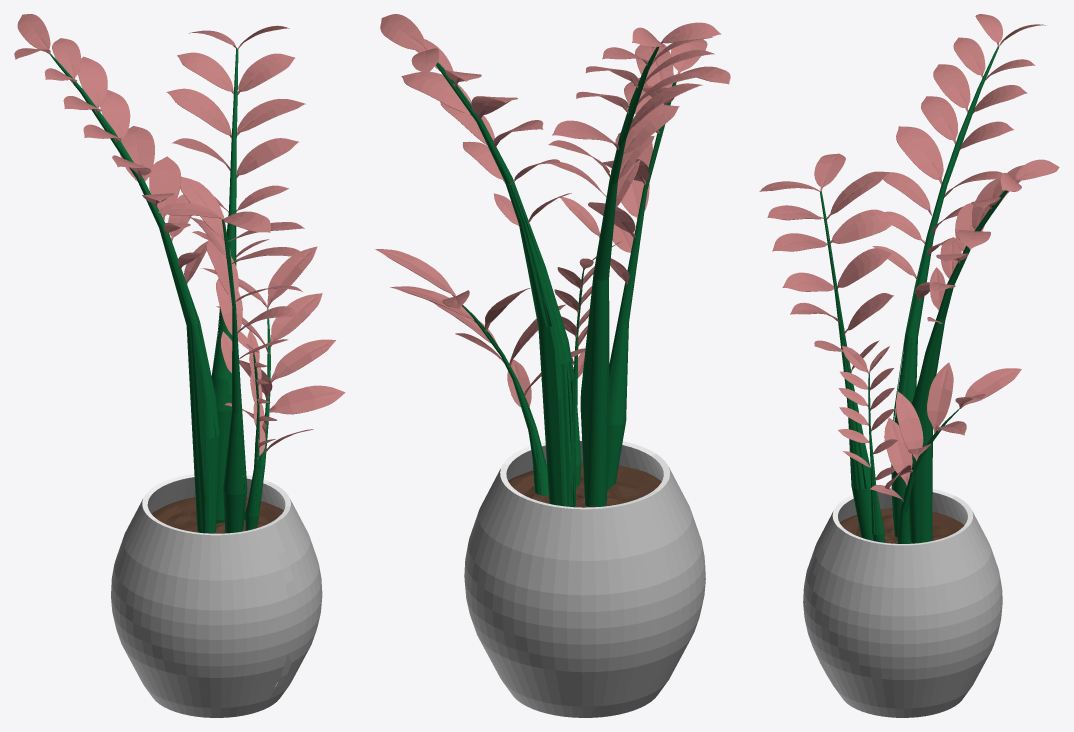
The model's file is vase_1.glb.
The picture shows the model from 3 angles, left to right: view 1: azimuth 30°, elevation 25°; view 2: azimuth 150°, elevation 25°; view 3: azimuth 270°, elevation 25°; orthographic projection. The views are drawn at different scales.
Parts seen in each view (by area): view 1: sh1, small093, small140, Cylinder00, small094, small116, Cylinder01, Cylinder04, default001_Material #36_0, small092, Cylinder03, Object001_Material #35_0 (+1 smaller); view 2: sh1, Cylinder04, small093, Cylinder00, small140, small094, small116, Cylinder01, default001_Material #36_0, Cylinder02, small092, Object001_Material #35_0 (+1 smaller); view 3: sh1, small093, small094, small116, Cylinder04, small140, Cylinder00, Cylinder01, small092, default001_Material #36_0, Cylinder03, Cylinder02 (+1 smaller).
Boxes of the visible parts, x1,y1,x2,y2 form: sh1: (111, 477, 322, 717); small093: (14, 14, 210, 283); small140: (166, 25, 305, 258); Cylinder00: (50, 54, 219, 533); small094: (158, 176, 306, 373); small116: (200, 246, 345, 452); Cylinder01: (222, 219, 247, 533); Cylinder04: (211, 49, 238, 523); default001_Material #36_0: (151, 497, 283, 533); small092: (237, 330, 277, 459); Cylinder03: (245, 353, 259, 530); Object001_Material #35_0: (142, 474, 290, 535); sh1: (464, 437, 705, 717); Cylinder04: (436, 62, 575, 507); small093: (548, 22, 721, 237); Cylinder00: (580, 47, 659, 506); small140: (380, 14, 571, 225); small094: (588, 39, 730, 285); small116: (375, 249, 585, 406); Cylinder01: (607, 82, 676, 489); default001_Material #36_0: (508, 462, 661, 507); Cylinder02: (462, 305, 548, 495); small092: (541, 241, 621, 379); Object001_Material #35_0: (500, 437, 669, 509); sh1: (803, 491, 1002, 717); small093: (872, 14, 1045, 300); small094: (759, 153, 897, 372); small116: (870, 362, 1021, 501); Cylinder04: (908, 190, 1007, 543); small140: (927, 159, 1059, 324); Cylinder00: (891, 46, 998, 537); Cylinder01: (820, 191, 872, 540); small092: (838, 345, 897, 480); default001_Material #36_0: (839, 508, 964, 543); Cylinder03: (868, 373, 884, 542); Cylinder02: (897, 408, 959, 543).
Size of the model in its own units: 9.82 by 20.16 by 8.93.
